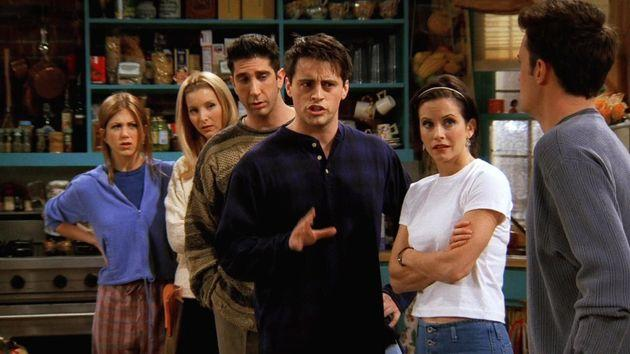without_mask: (289, 53, 348, 124), (417, 96, 475, 160), (516, 32, 553, 118), (234, 56, 285, 115), (102, 101, 139, 156), (185, 90, 221, 134)
